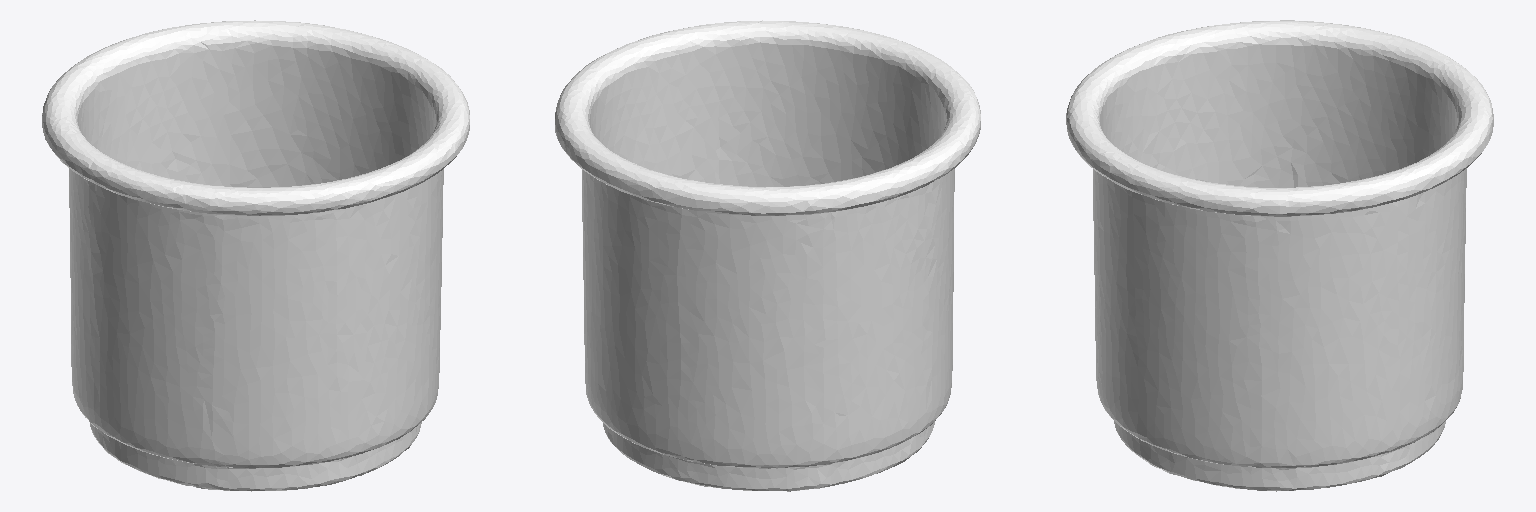
robot.urdf — 042_adjustable_wrench:
<robot name="042_adjustable_wrench">
	<link name="_name">
		<visual>
			<origin xyz="-0.1450146241685899 0.49664842094331996 -0.042507809976260066" rpy="0 0 0" />
			<geometry>
				<mesh filename="042_adjustable_wrench/google_16k/textured.obj" scale="10 10 10" />
			</geometry>
			<material name="texture">
				<color rgba="1.0 1.0 1.0 1.0" />
			</material>
		</visual>
		<collision>
			<geometry>
				<mesh filename="042_adjustable_wrench/google_16k/textured_vhacd.obj" scale="10 10 10" />
			</geometry>
		<origin xyz="-0.1450146241685899 0.49664842094331996 -0.042507809976260066" rpy="0 0 0" /></collision>
		<inertial>
			<mass value="1.0" />
			<inertia ixx="1.0" ixy="0.0" ixz="0.0" iyy="1.0" iyz="0.0" izz="1.0" />
		</inertial>
	</link>
</robot>

--- Facts derived from the render (not from the file) ---
The picture shows the robot from 3 angles, left to right: view 1: azimuth 30°, elevation 25°; view 2: azimuth 150°, elevation 25°; view 3: azimuth 270°, elevation 25°; orthographic projection.
Model 042_adjustable_wrench with 1 links and 0 joints (none), rooted at _name, posed every joint at zero.
Visible links, largest first — view 1: _name; view 2: _name; view 3: _name.
Link boxes in pixels (left/top/right/bottom): _name: left=42, top=20, right=469, bottom=491; _name: left=555, top=20, right=980, bottom=491; _name: left=1066, top=20, right=1493, bottom=491.
Bounding box of the posed robot: 0.915 × 0.9162 × 0.7506 m (x, y, z).
1 mesh visuals loaded from 1 distinct referenced files (1 OBJ).